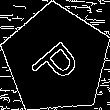P_NE: (26, 29, 86, 90)
